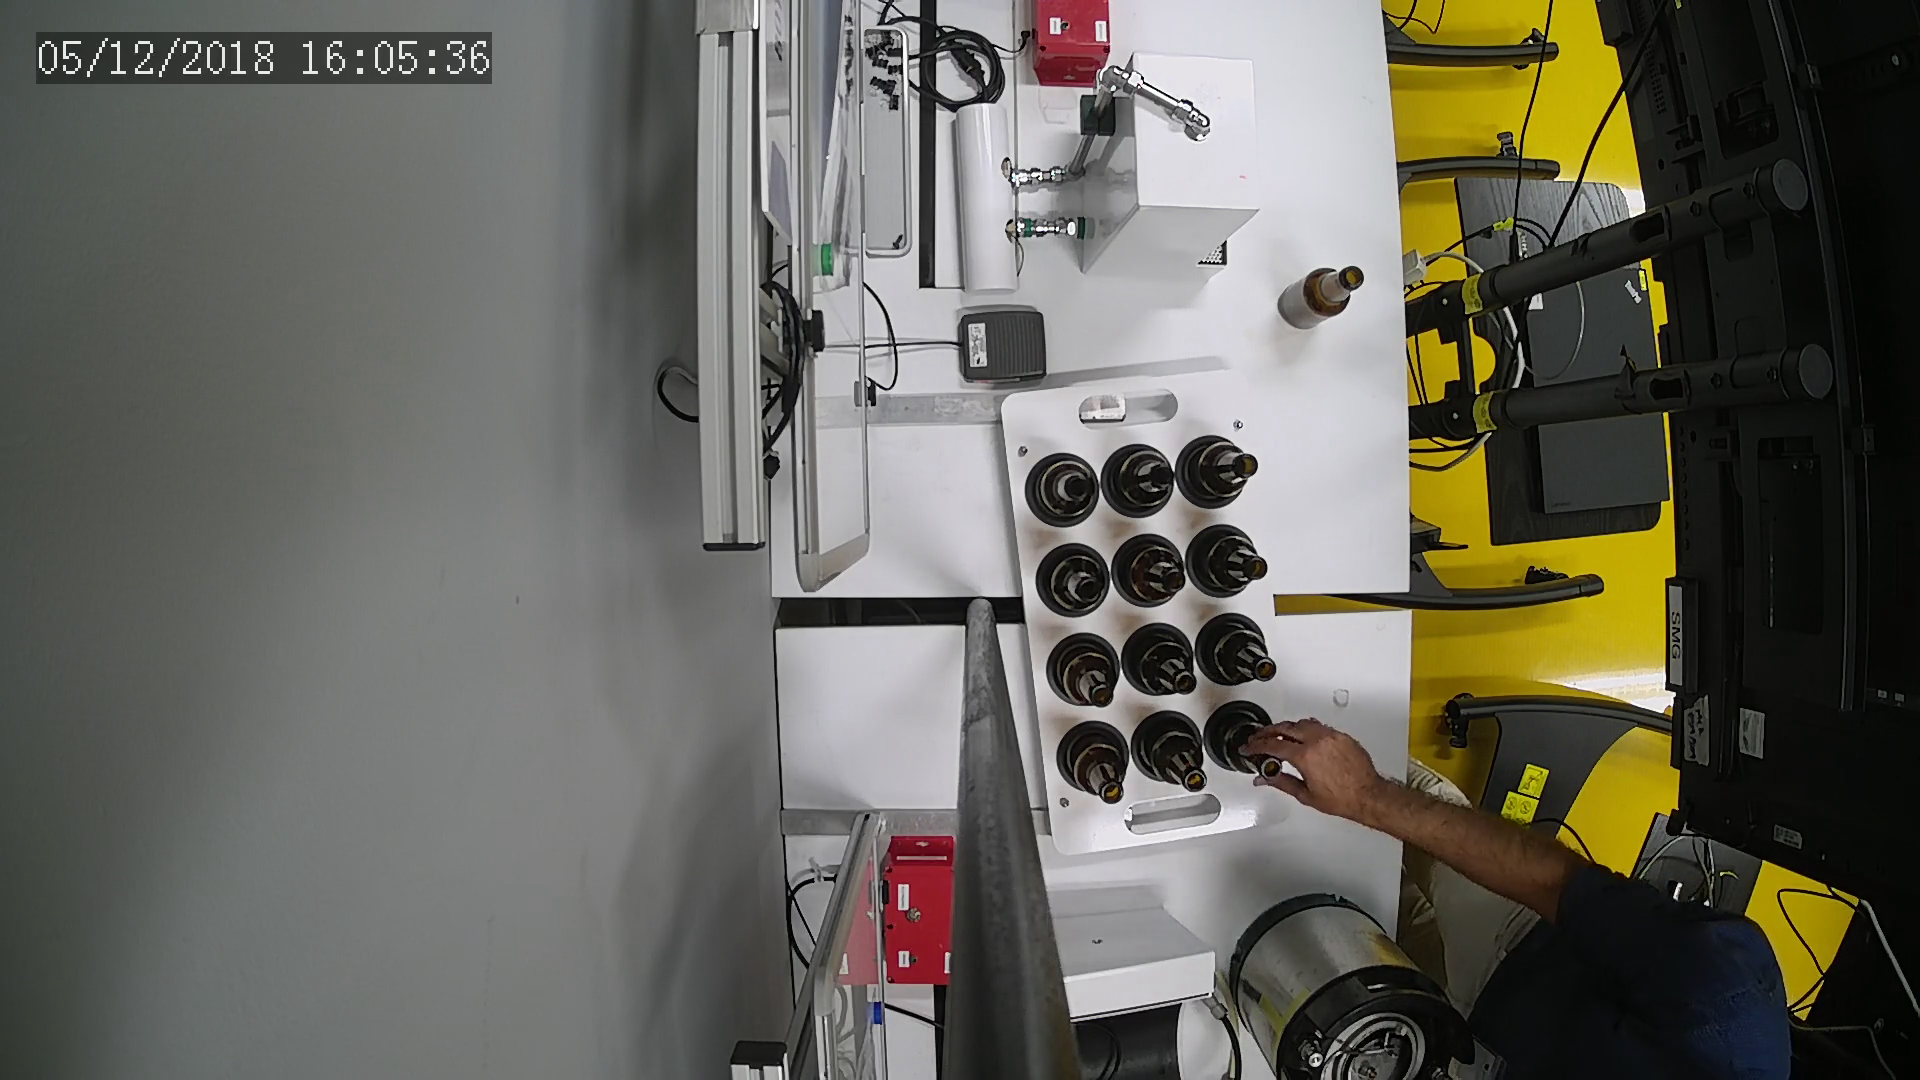filled_bottle: (1183, 518, 1280, 603), (1127, 709, 1216, 800), (1048, 717, 1133, 811), (1118, 620, 1208, 705), (1035, 630, 1126, 713), (1174, 433, 1266, 509), (1189, 613, 1279, 691), (1102, 440, 1179, 524), (1036, 541, 1114, 620), (1026, 447, 1098, 531), (1112, 535, 1191, 607)
trolley: (996, 359, 1299, 857)
unfilled_bottle: (1270, 262, 1378, 342)
